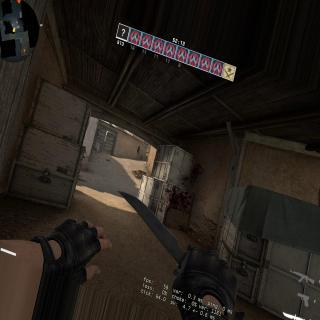CT-Body: (137, 145, 140, 155)
CT-Head: (138, 146, 140, 148)
